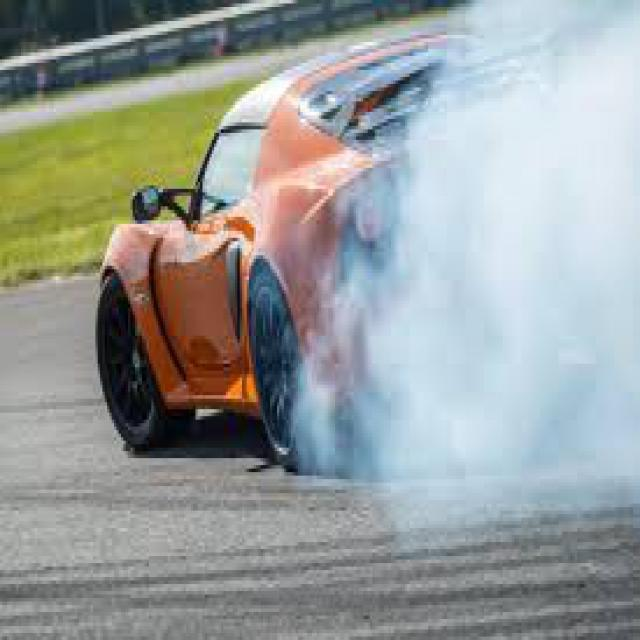Smoke: (287, 4, 627, 549)
